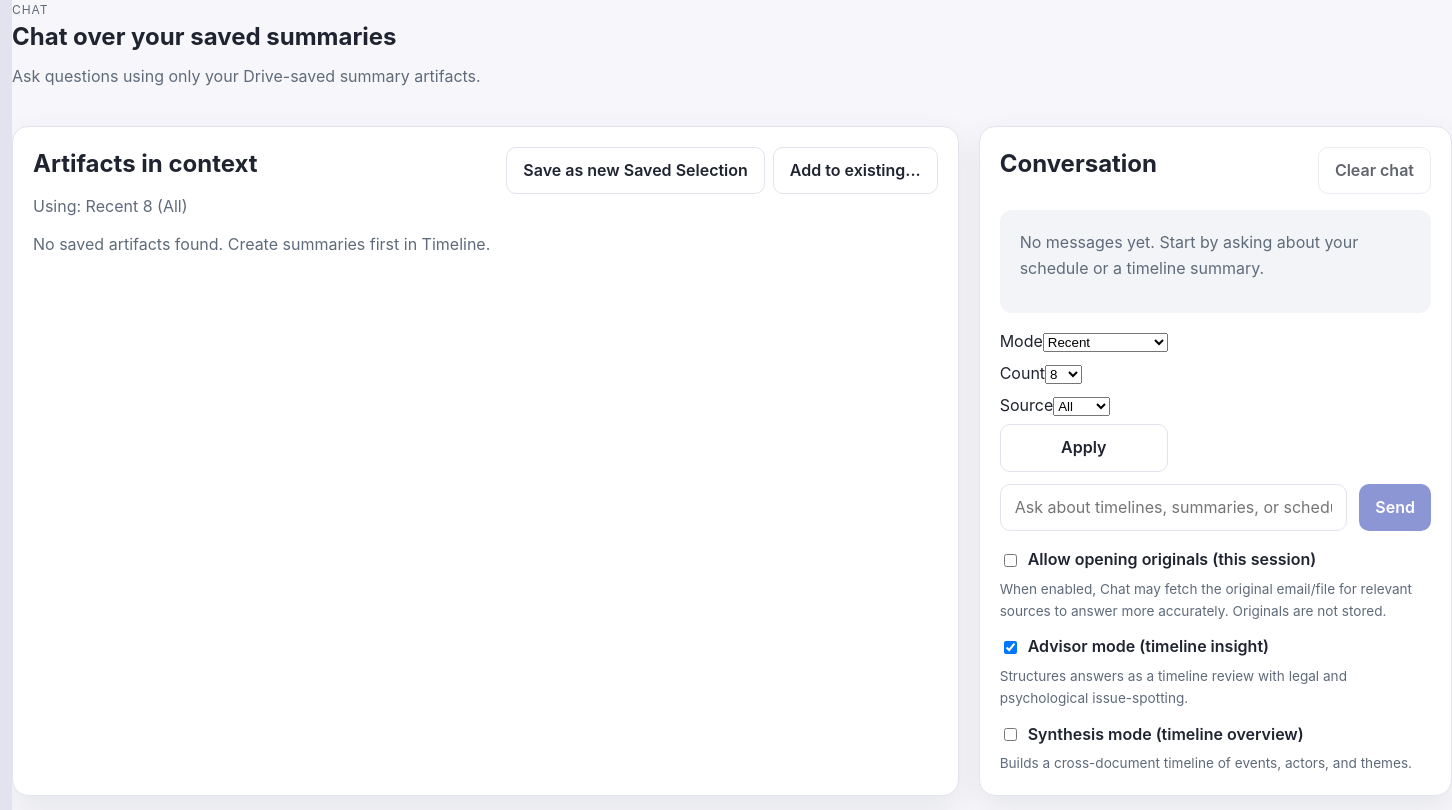
Scenario: ChatPageClient › renders suggestions after a message and populates input on click
In the field named "chat input": (1174, 508) left=1000, top=484, right=1347, bottom=531, type "Hello there"
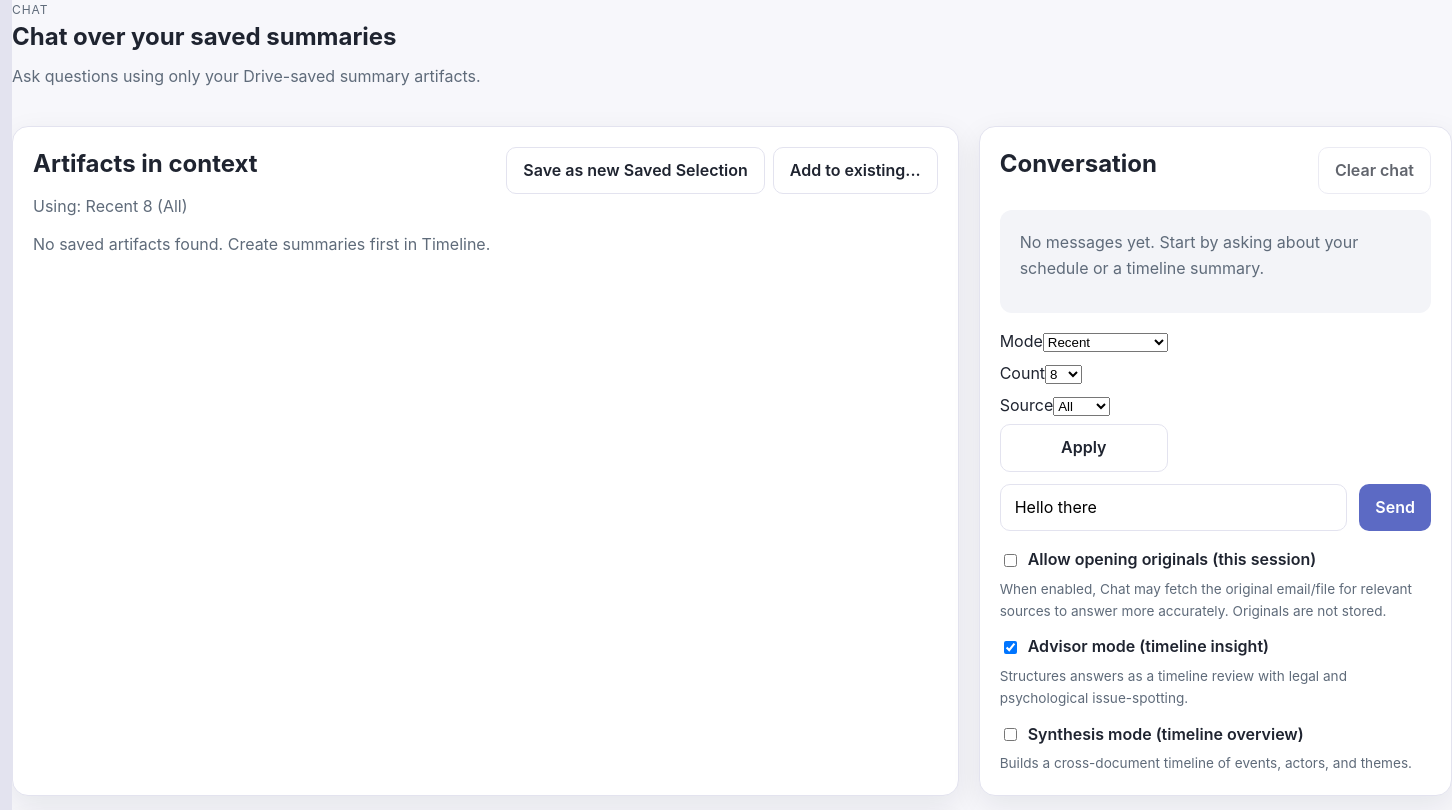
Click the button "Send": (1395, 508) left=1359, top=484, right=1431, bottom=531
(page scrolled)
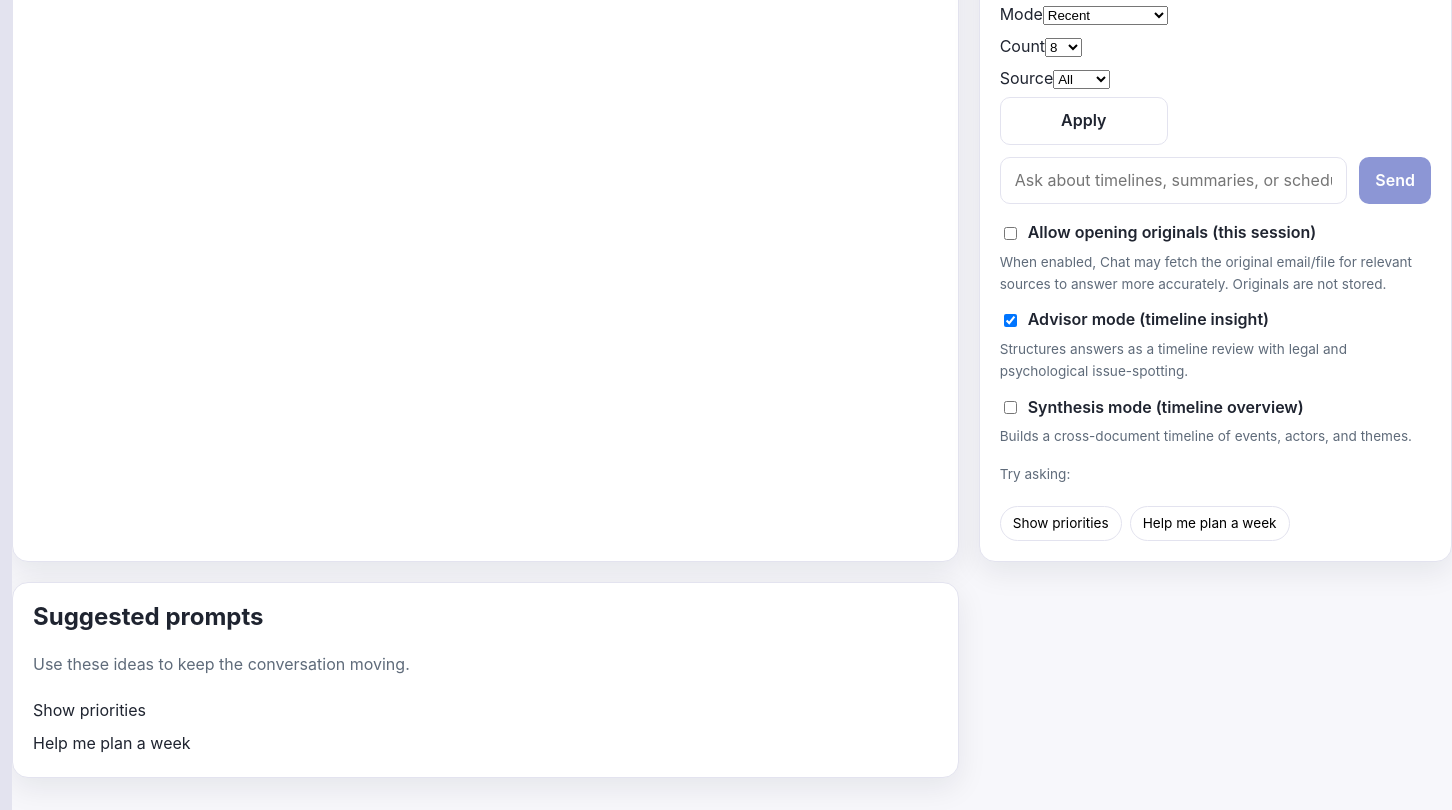
Click the button "Show priorities": (1061, 524) left=1000, top=506, right=1122, bottom=541
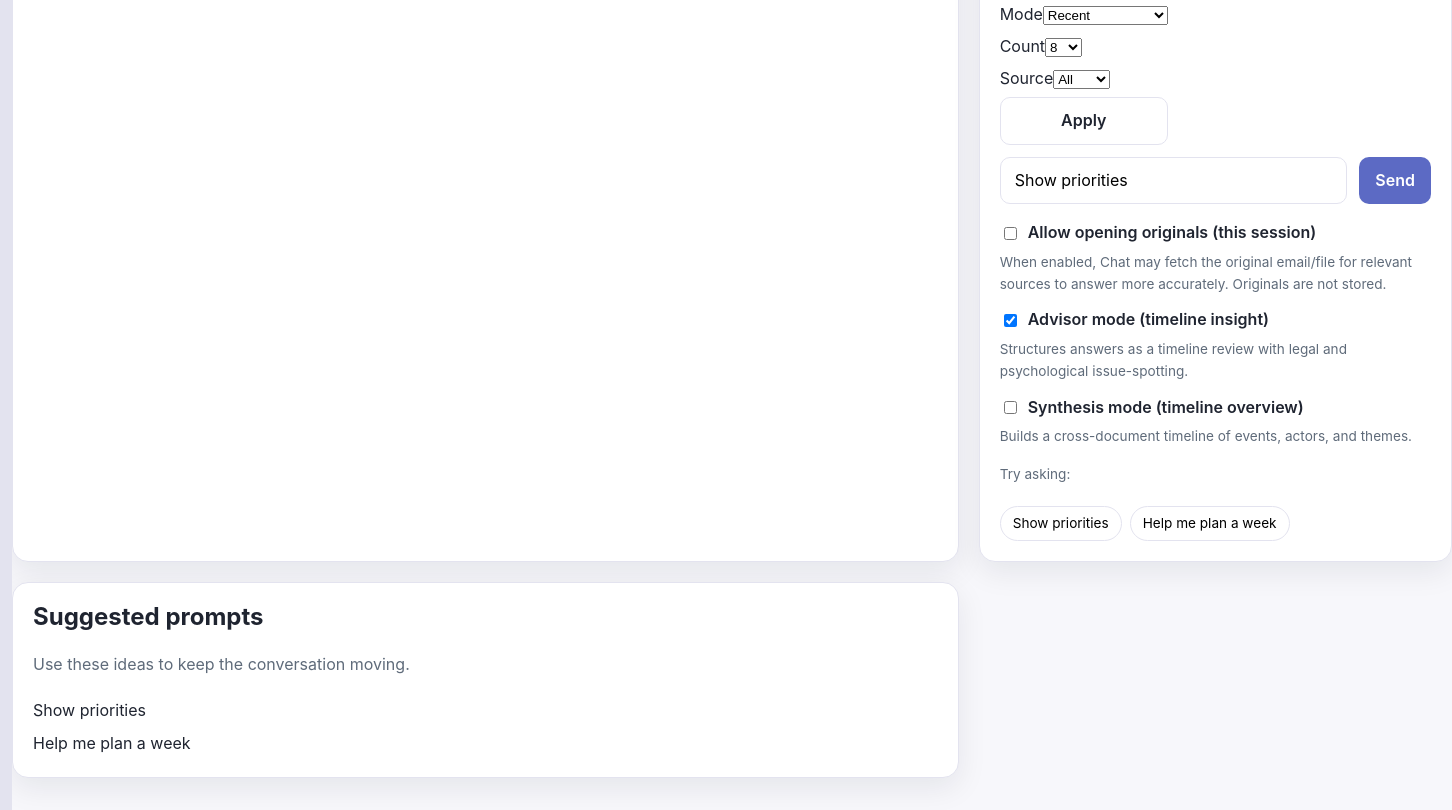
Now the field named "chat input" holds "Show priorities", box left=1000, top=157, right=1347, bottom=204
